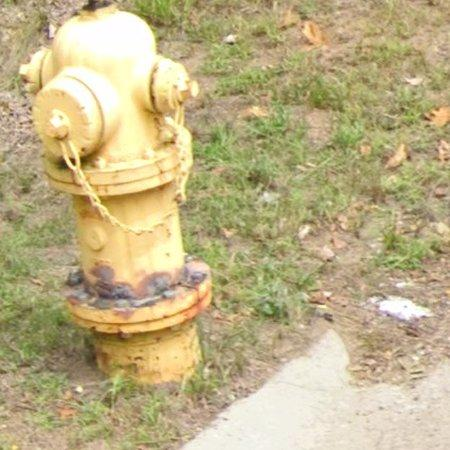a fire hydrant: (20, 4, 212, 384)
